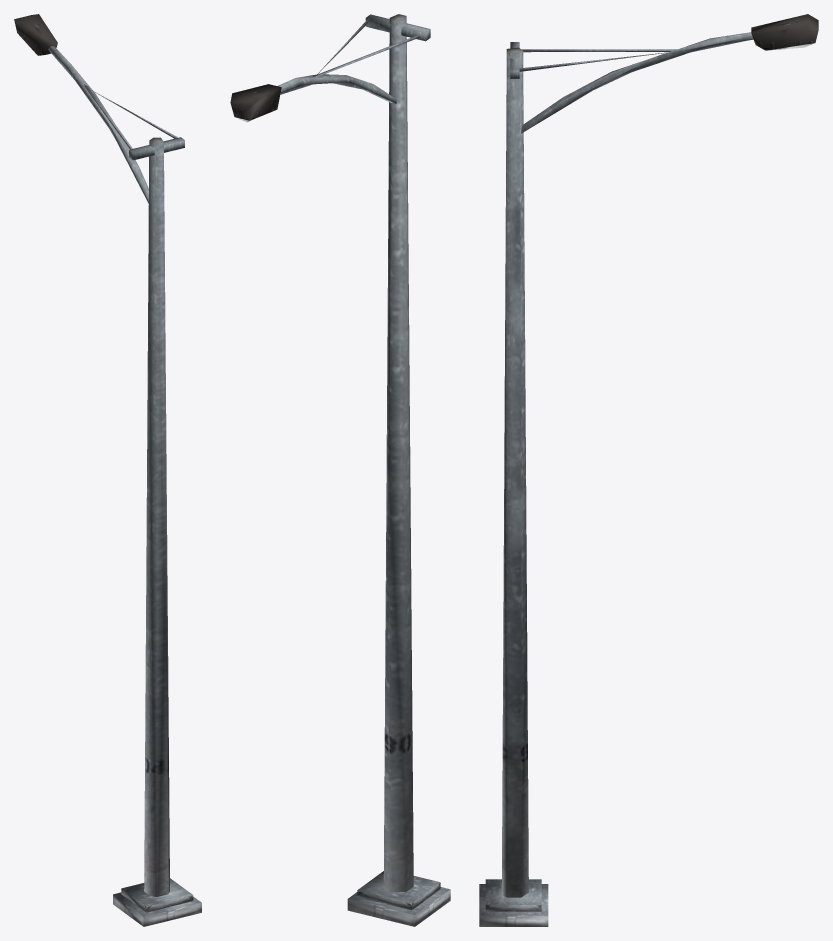
Rendered from streetLight1_3.fbx.
3 renders of one model, left to right at view 1: azimuth 30°, elevation 25°; view 2: azimuth 150°, elevation 25°; view 3: azimuth 270°, elevation 25°, orthographic. The views are drawn at different scales.
Visible parts, largest first — view 1: streetlightA0; view 2: streetlightA0; view 3: streetlightA0.
Part boxes in pixels (bbox=[...]): streetlightA0: bbox=[14, 14, 201, 926]; streetlightA0: bbox=[230, 14, 450, 926]; streetlightA0: bbox=[479, 14, 818, 926].
Bounding box in the file's own units: 0.8481 × 11.09 × 3.83.
